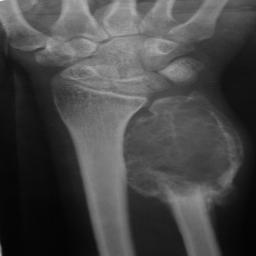cancer: (123, 96, 243, 199)
